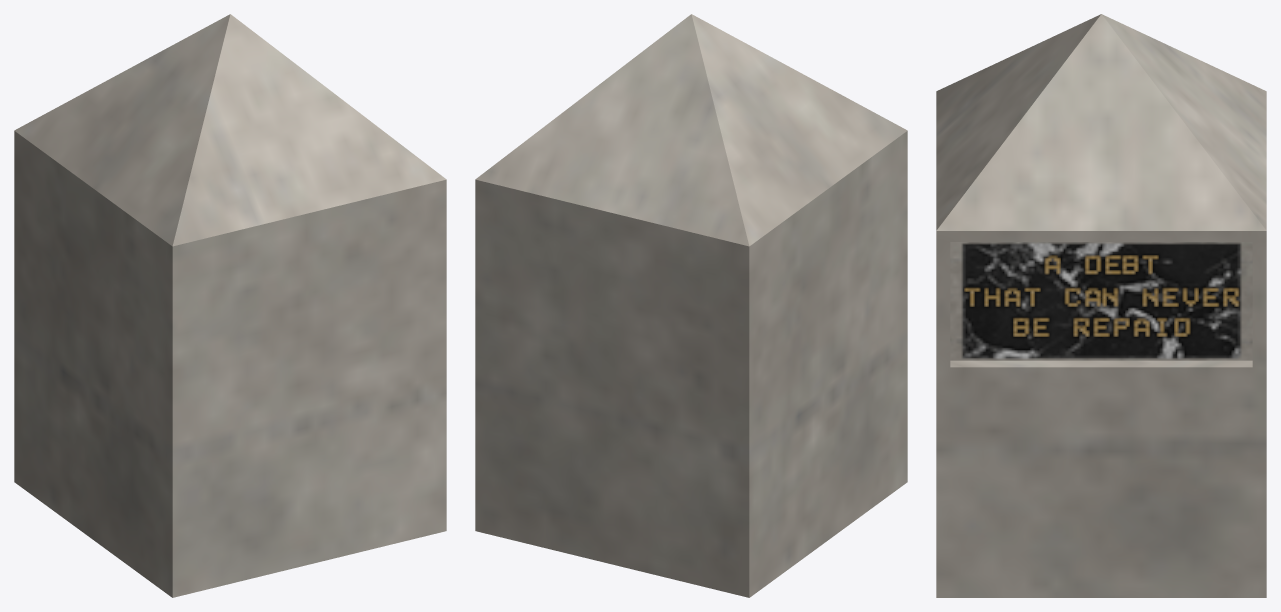
File: Graveyard Fence Pillar.fbx
3 renders of one model, left to right at view 1: azimuth 30°, elevation 25°; view 2: azimuth 150°, elevation 25°; view 3: azimuth 270°, elevation 25°, orthographic. The views are drawn at different scales.
Visible parts, largest first — view 1: Fence Pillar; view 2: Fence Pillar; view 3: Fence Pillar.
Boxes of the visible parts, left/top/right/bottom form: Fence Pillar: left=14, top=14, right=446, bottom=597; Fence Pillar: left=475, top=14, right=907, bottom=597; Fence Pillar: left=936, top=14, right=1266, bottom=597.
Size of the model in its own units: 123 by 211 by 123.
